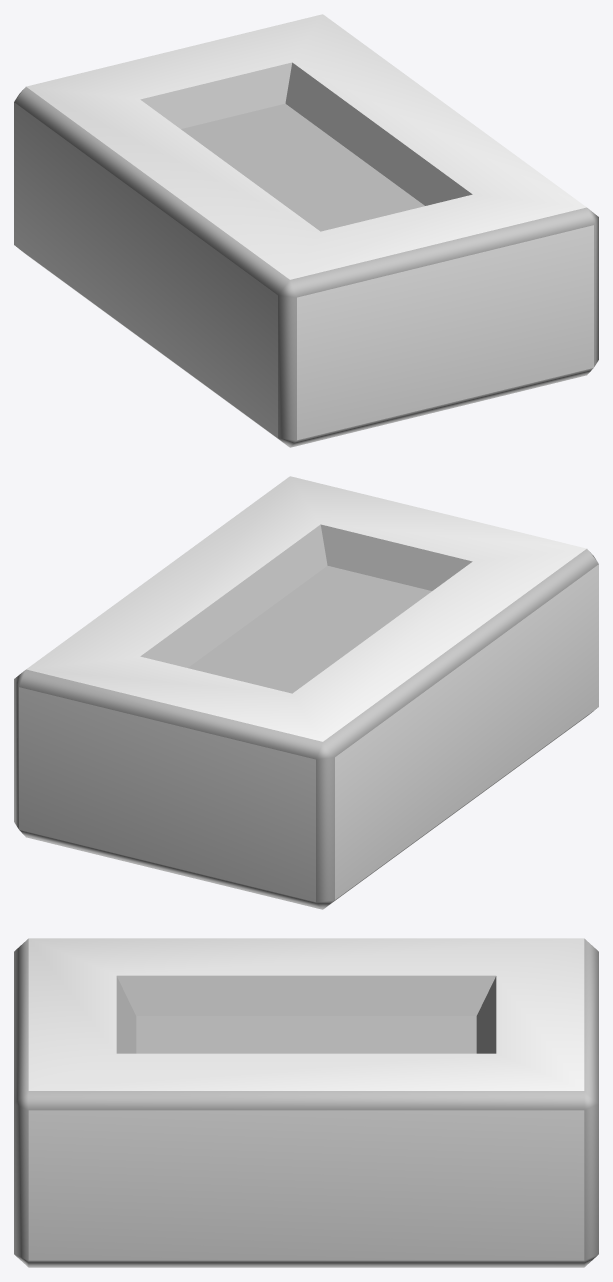
Rendered from Brick_LOD2.fbx.
3 renders of one model, top to bottom at view 1: azimuth 30°, elevation 25°; view 2: azimuth 150°, elevation 25°; view 3: azimuth 270°, elevation 25°, orthographic. The views are drawn at different scales.
Visible parts, largest first — view 1: Brick_LOD2; view 2: Brick_LOD2; view 3: Brick_LOD2.
Part boxes in pixels (<box>): Brick_LOD2: <box>14,14,598,447</box>; Brick_LOD2: <box>14,476,598,909</box>; Brick_LOD2: <box>14,938,598,1267</box>.
Size of the model in its own units: 1 by 0.5 by 1.5.
1 material, 1 textured.
